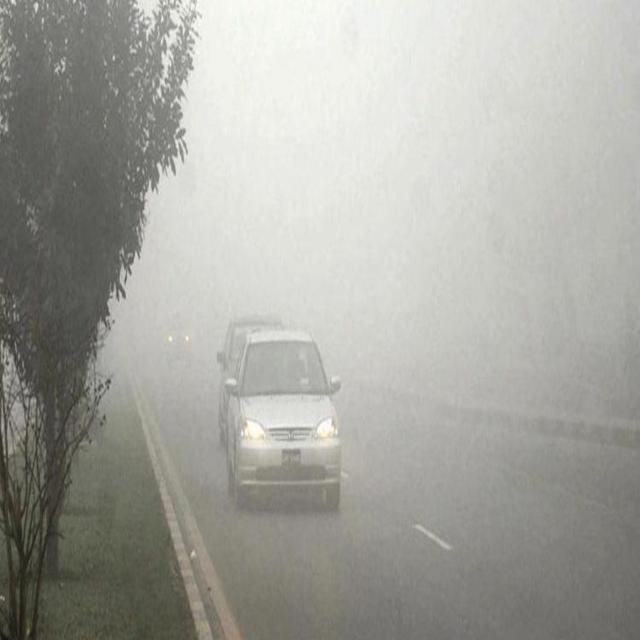Car: (222, 327, 344, 518), (162, 308, 191, 364)
